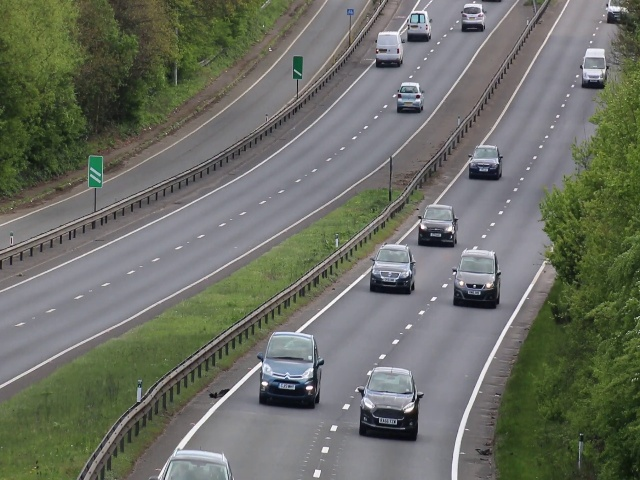car: (259, 327, 322, 410), (361, 365, 415, 438), (453, 247, 501, 308), (370, 244, 416, 296), (417, 200, 457, 246), (468, 143, 503, 182), (375, 28, 405, 68), (581, 47, 605, 89), (396, 80, 424, 112), (407, 9, 432, 43), (460, 3, 488, 31)
